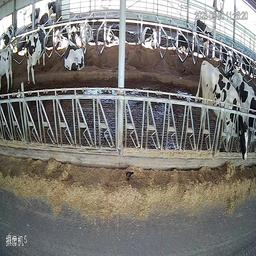cow: (201, 62, 249, 177), (25, 25, 45, 86), (241, 81, 255, 145), (66, 29, 86, 72), (194, 16, 212, 57), (224, 52, 242, 91), (0, 47, 13, 91), (142, 22, 157, 54), (173, 29, 190, 56), (53, 24, 67, 54), (106, 20, 119, 49), (31, 0, 47, 23), (78, 18, 92, 44), (3, 20, 14, 52), (47, 3, 60, 21)
